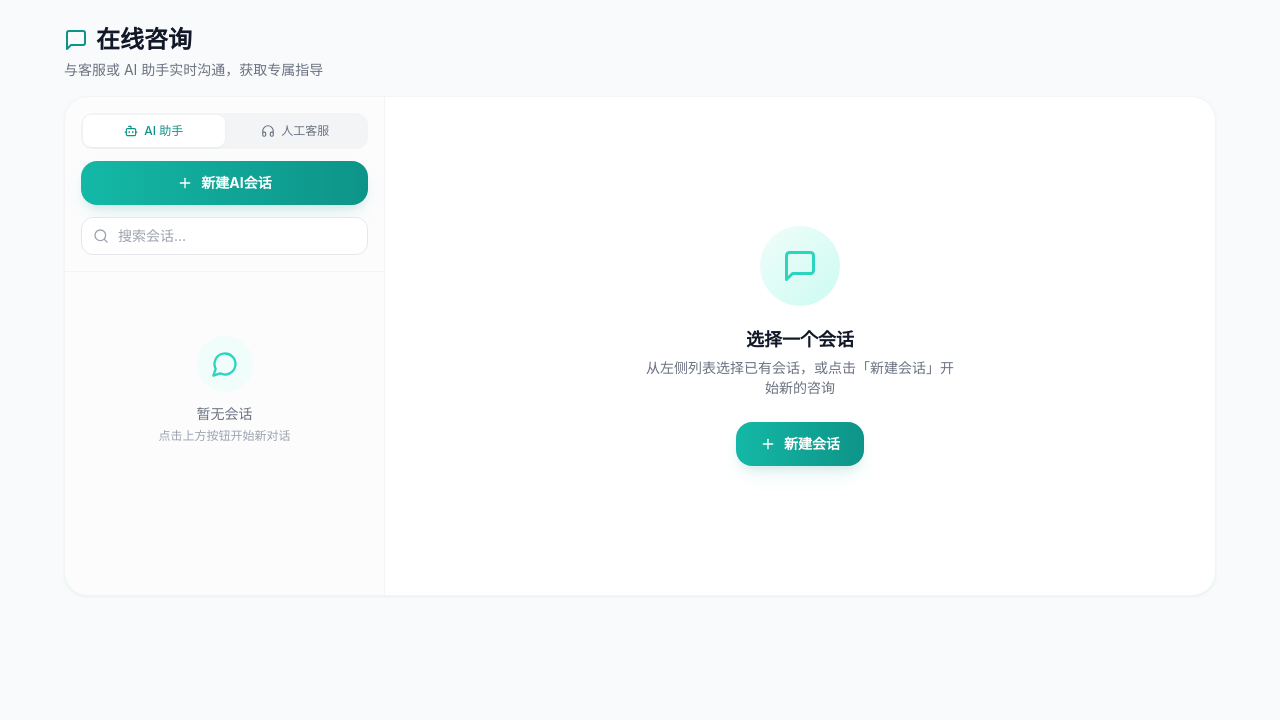
Test: Chat 页面 › 已登录 - 会话列表 › 切换会话类型（AI 助手 / 人工客服）
This screenshot has width=1280, height=720.
Expected: the button "新建AI会话" is shown, [81,161,368,205]
# 点击人工客服类型选择按钮
What coordinates should you click on to do the following:
click the button "人工客服"
I would click on:
 (295, 131)
Its box is [224,115,366,147].
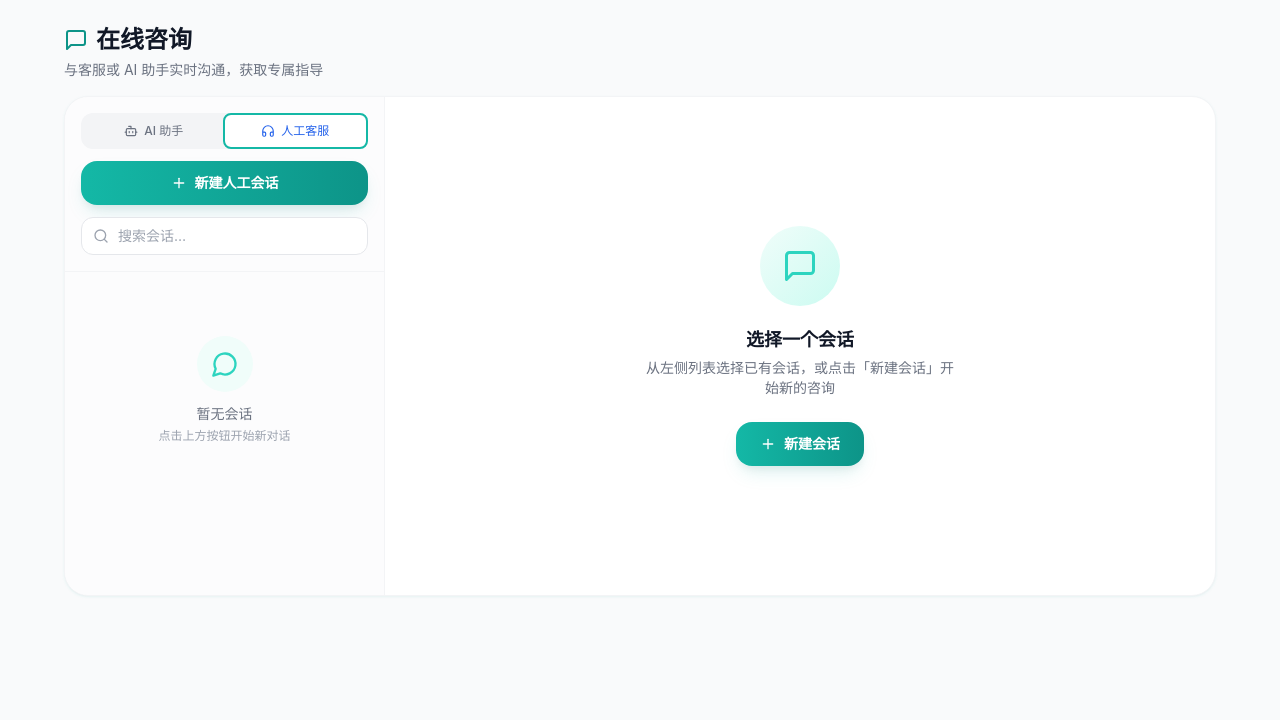
Now the button "新建人工会话" is shown, box [81,161,368,205]
